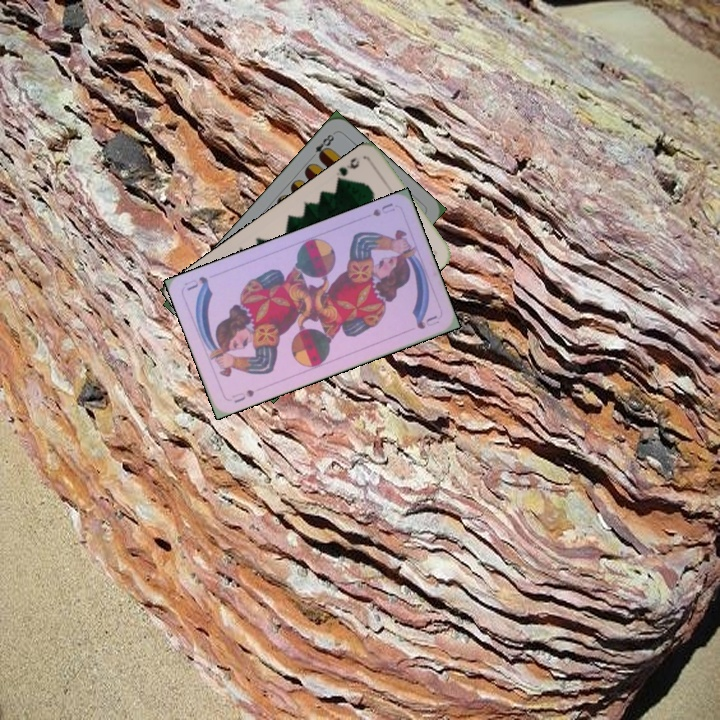E8: (306, 129, 337, 162)
G9: (332, 153, 362, 186)
SU: (228, 385, 257, 406), (368, 199, 398, 219)
